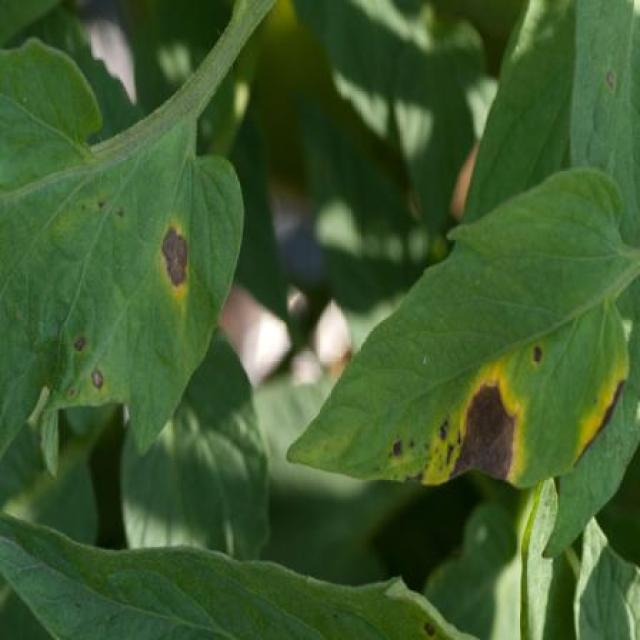Early Blight: (281, 159, 632, 491), (0, 27, 244, 472)
